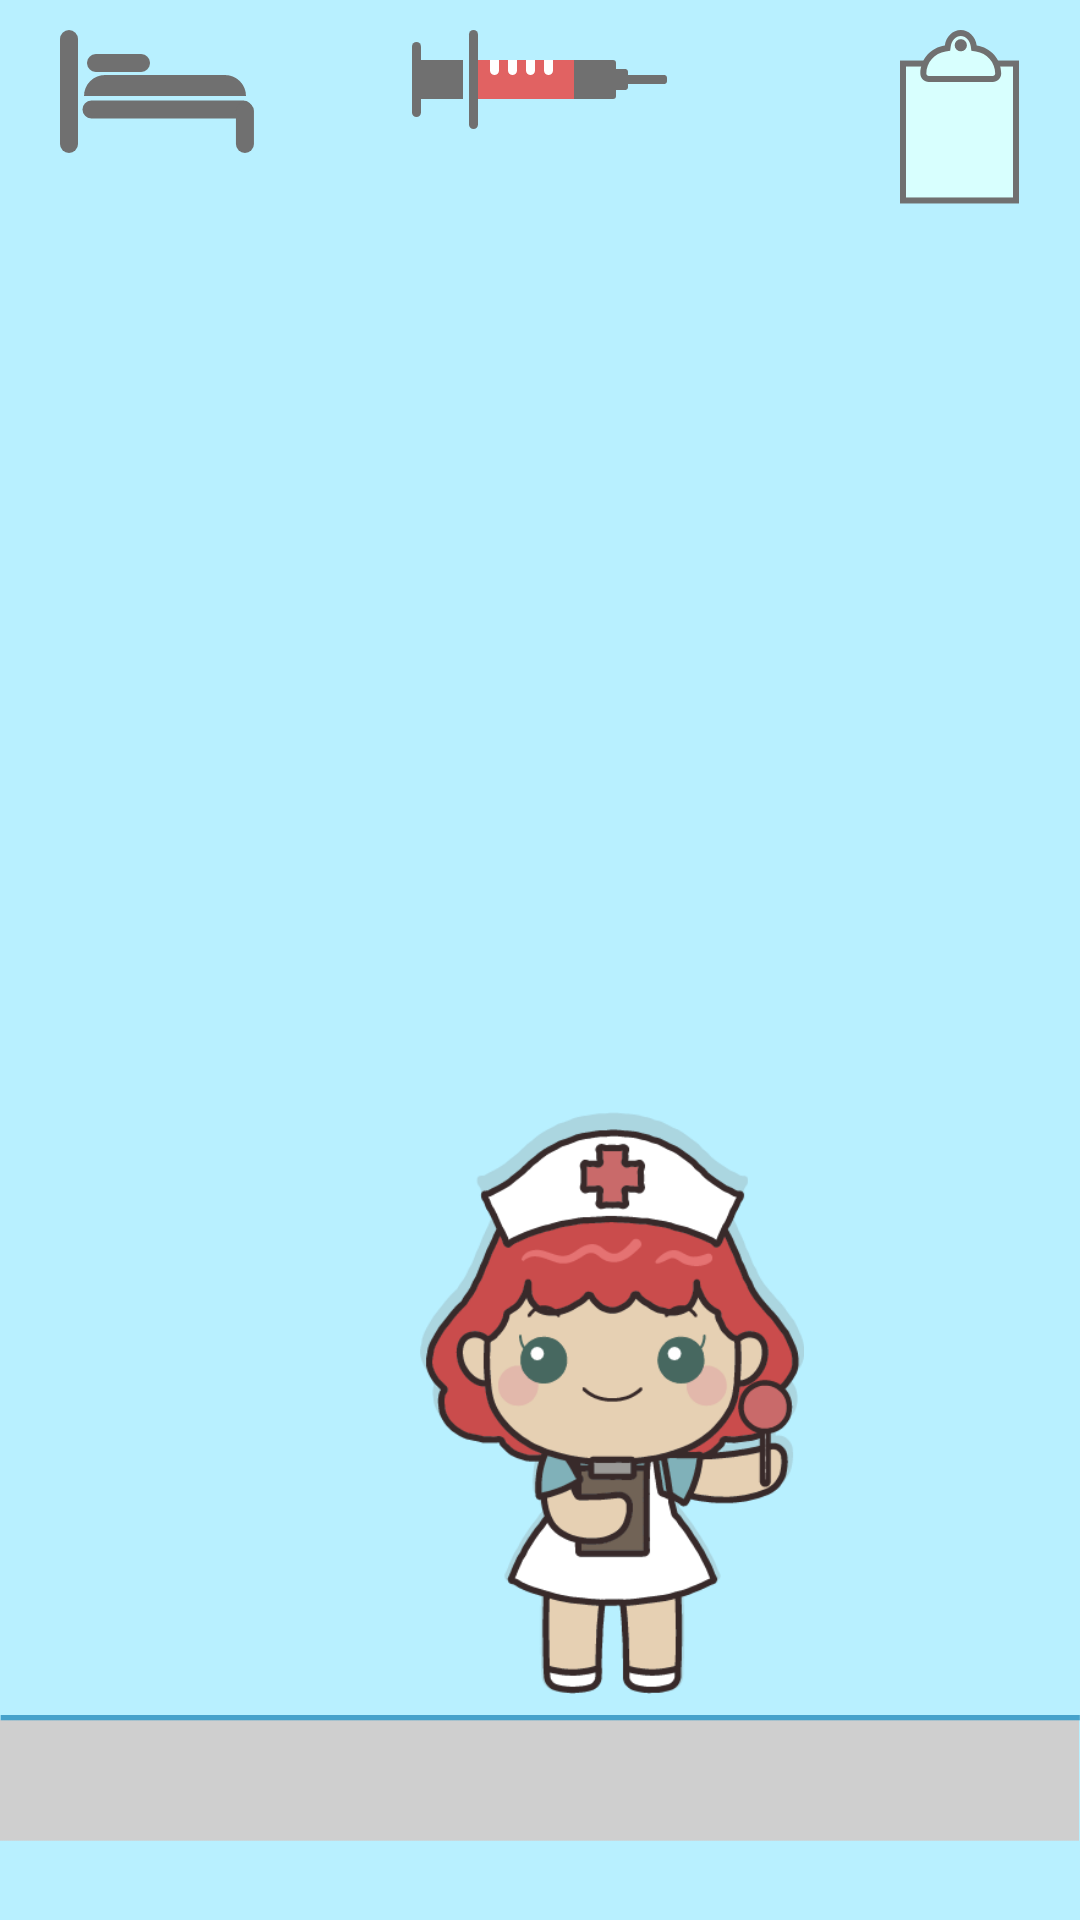

Icon click points for this 1080px x 1920px phone screenshot, format point (x, y):
cama: point (157, 91)
prontuario: point (959, 117)
seringa: point (539, 79)
